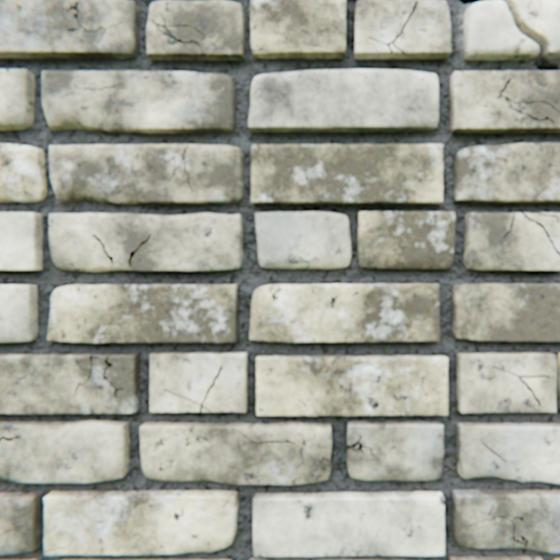brick: (250, 490, 444, 559), (45, 489, 238, 554), (141, 421, 332, 484), (43, 72, 236, 133), (249, 70, 437, 132), (256, 355, 447, 415), (251, 145, 442, 205), (50, 145, 244, 204), (50, 213, 243, 271), (250, 283, 439, 342), (48, 284, 238, 342), (0, 353, 140, 413), (0, 0, 139, 59), (0, 419, 130, 482), (450, 489, 559, 551), (450, 72, 559, 133), (452, 144, 559, 203), (456, 422, 559, 483), (451, 283, 559, 341), (456, 352, 559, 412), (147, 1, 245, 61), (354, 0, 450, 60), (151, 352, 248, 411), (347, 420, 443, 479), (250, 0, 345, 59), (357, 212, 454, 269), (463, 213, 559, 270), (256, 212, 351, 268), (0, 144, 47, 202), (0, 491, 42, 554), (0, 213, 44, 270), (0, 285, 39, 342), (0, 70, 36, 131), (523, 213, 559, 252), (448, 555, 541, 559), (62, 558, 232, 559), (0, 558, 38, 559), (552, 557, 559, 559)
broken_brick: (463, 1, 537, 61), (509, 0, 559, 59)
crack: (501, 0, 559, 71), (497, 78, 558, 124), (164, 365, 222, 411), (368, 2, 416, 54), (491, 365, 548, 405), (521, 213, 559, 256), (151, 21, 200, 47), (479, 503, 522, 528), (347, 434, 379, 460), (129, 233, 151, 267), (181, 145, 193, 194), (94, 234, 114, 263), (480, 440, 506, 462), (63, 3, 79, 23), (502, 213, 514, 238), (249, 437, 296, 443), (104, 355, 113, 384), (89, 355, 98, 378), (458, 0, 498, 5), (512, 530, 526, 544), (75, 379, 87, 395), (83, 85, 118, 90), (0, 435, 23, 440), (529, 213, 557, 217), (171, 166, 180, 178), (115, 386, 124, 397), (68, 29, 79, 31)
